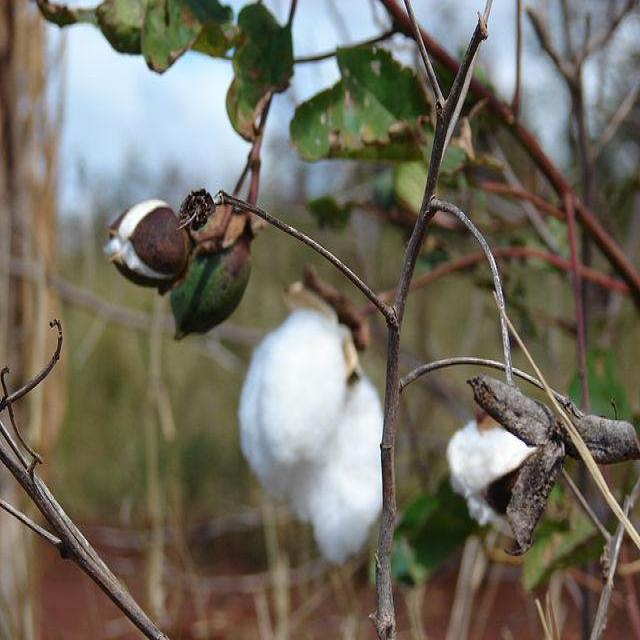Late_blight: (238, 307, 384, 562), (444, 372, 556, 563), (99, 188, 214, 290)
